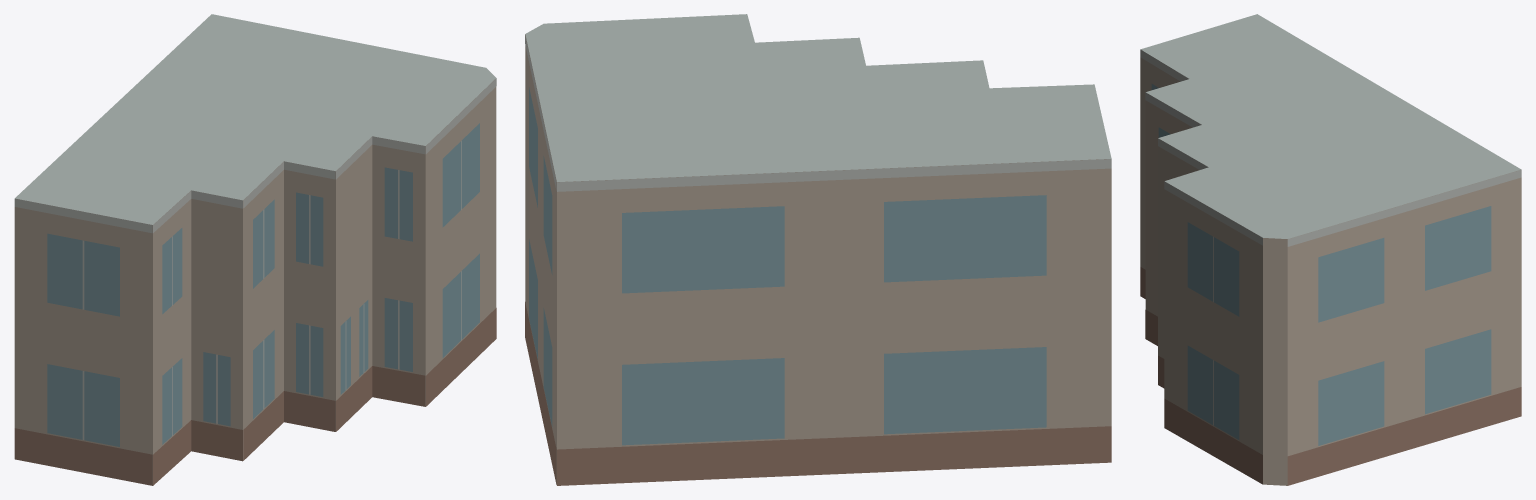
The model's file is survey-upis-32635951.glb.
3 renders of one model, left to right at view 1: azimuth 30°, elevation 25°; view 2: azimuth 150°, elevation 25°; view 3: azimuth 270°, elevation 25°, orthographic. The views are drawn at different scales.
Parts seen in each view (by area): view 1: survey-upis-32635951.tmp; view 2: survey-upis-32635951.tmp; view 3: survey-upis-32635951.tmp.
Part boxes in pixels (box(x1,y1,x2,y2)): survey-upis-32635951.tmp: box(14, 14, 496, 485); survey-upis-32635951.tmp: box(525, 14, 1111, 485); survey-upis-32635951.tmp: box(1140, 14, 1521, 485).
Size of the model in its own units: 14.88 by 7.6 by 10.65.
